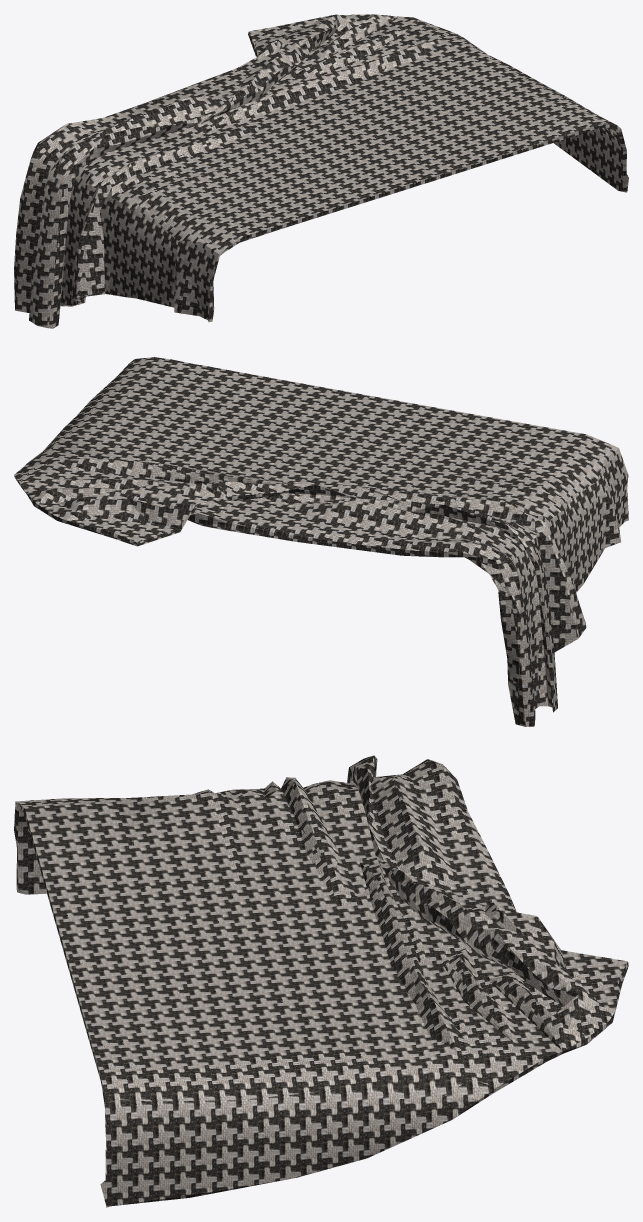
Rendered from clothe.glb.
The picture shows the model from 3 angles, top to bottom: view 1: azimuth 30°, elevation 25°; view 2: azimuth 150°, elevation 25°; view 3: azimuth 270°, elevation 25°; orthographic projection. The views are drawn at different scales.
Parts seen in each view (by area): view 1: low_Pillow_1_lagen_0; view 2: low_Pillow_1_lagen_0; view 3: low_Pillow_1_lagen_0.
Part boxes in pixels (bbox=[...]): low_Pillow_1_lagen_0: bbox=[14, 14, 628, 328]; low_Pillow_1_lagen_0: bbox=[14, 357, 628, 726]; low_Pillow_1_lagen_0: bbox=[14, 755, 628, 1207].
Size of the model in its own units: 0.8407 by 0.2914 by 0.6199.
1 material, 1 textured.
